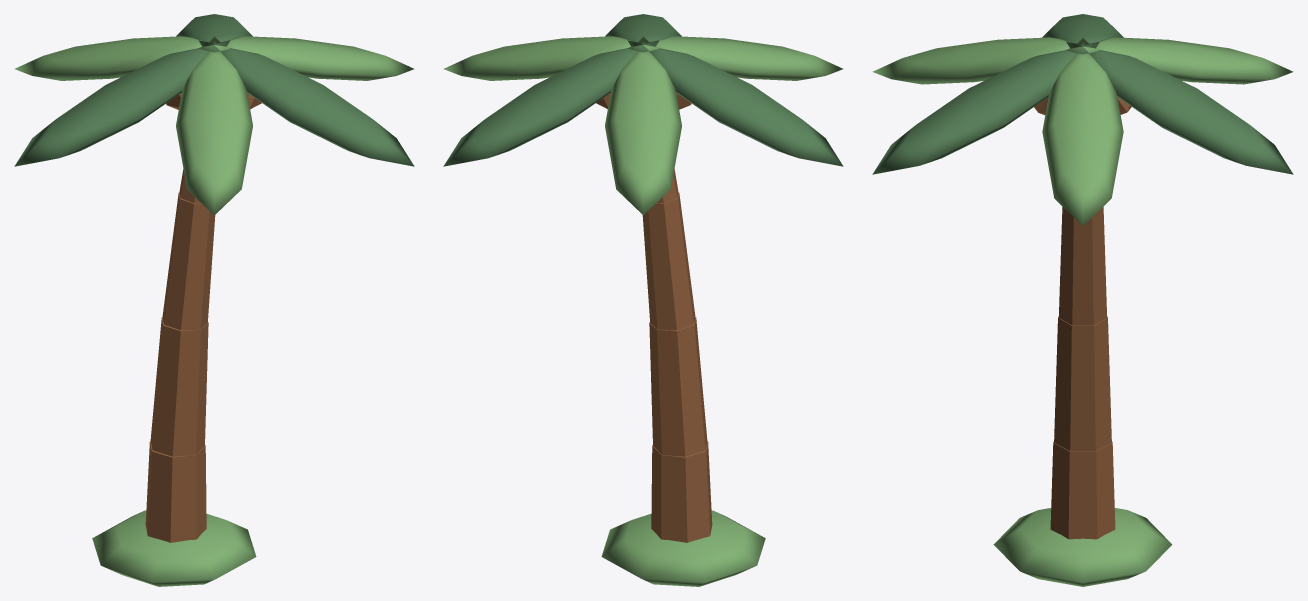
The model's file is DW_Palm.fbx.
3 views of the same model, side by side, from view 1: azimuth 30°, elevation 25°; view 2: azimuth 150°, elevation 25°; view 3: azimuth 270°, elevation 25° (orthographic). The views are drawn at different scales.
Parts seen in each view (by area): view 1: DW_Palm; view 2: DW_Palm; view 3: DW_Palm.
Boxes of the visible parts, x1,y1,x2,y2 form: DW_Palm: (14, 14, 414, 586); DW_Palm: (443, 14, 843, 586); DW_Palm: (872, 14, 1293, 586).
Bounding box in the file's own units: 1.2 × 1.47 × 1.04.
